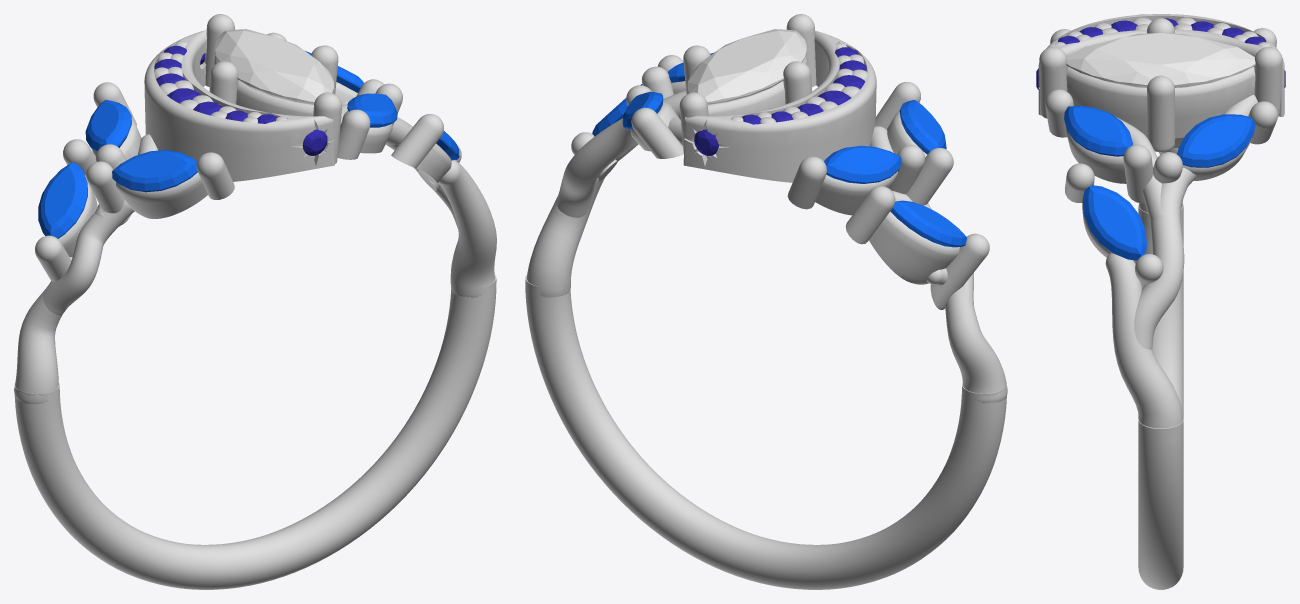
Rendered from AlexCrecentmoonPT.glb.
3 renders of one model, left to right at view 1: azimuth 30°, elevation 25°; view 2: azimuth 150°, elevation 25°; view 3: azimuth 270°, elevation 25°, orthographic.
Visible parts, largest first — view 1: Alex PT for 3d model, Alex dia for 3d model, Alex sapph for 3d model.004, Alex sapph for 3d model.003, Alex alexandrite for 3d model, Alex sapph for 3d model.001, Alex sapph for 3d model.005; view 2: Alex PT for 3d model, Alex dia for 3d model, Alex sapph for 3d model.001, Alex alexandrite for 3d model, Alex sapph for 3d model.003, Alex sapph for 3d model.004, Alex sapph for 3d model; view 3: Alex PT for 3d model, Alex dia for 3d model, Alex sapph for 3d model.002, Alex sapph for 3d model, Alex sapph for 3d model.005, Alex alexandrite for 3d model.
Part boxes in pixels (x1,y1,x2,y2): Alex PT for 3d model: (14,14,496,589); Alex dia for 3d model: (215,29,333,104); Alex sapph for 3d model.004: (112,150,197,192); Alex sapph for 3d model.003: (38,162,87,238); Alex alexandrite for 3d model: (154,45,327,155); Alex sapph for 3d model.001: (85,99,131,151); Alex sapph for 3d model.005: (347,93,397,127); Alex PT for 3d model: (525,14,1007,589); Alex dia for 3d model: (687,29,806,104); Alex sapph for 3d model.001: (824,145,901,183); Alex alexandrite for 3d model: (694,47,866,155); Alex sapph for 3d model.003: (890,200,966,247); Alex sapph for 3d model.004: (899,100,946,154); Alex sapph for 3d model: (622,91,663,128); Alex PT for 3d model: (1038,14,1284,589); Alex dia for 3d model: (1066,33,1255,87); Alex sapph for 3d model.002: (1082,185,1146,260); Alex sapph for 3d model: (1177,114,1255,167); Alex sapph for 3d model.005: (1064,105,1132,156); Alex alexandrite for 3d model: (1036,18,1285,89).
Size of the model in its own units: 19.53 by 20.62 by 8.81.
